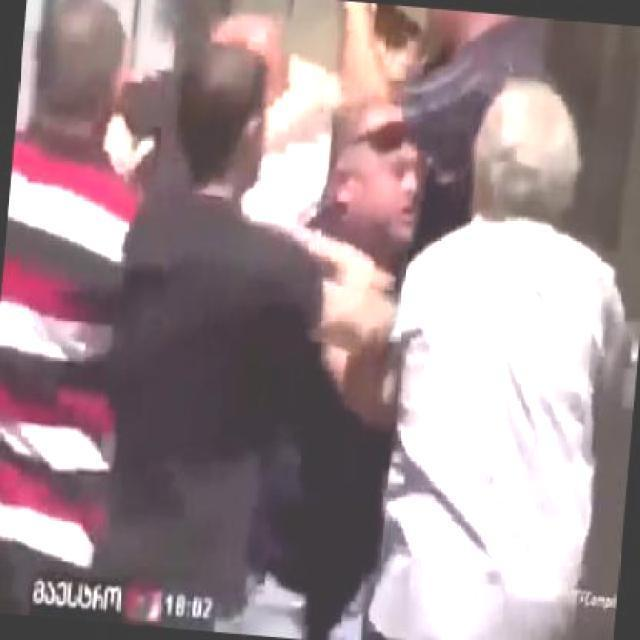fight: (114, 78, 428, 474)
